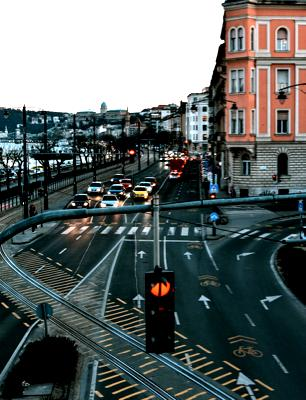International Road Signal Light: (144, 270, 177, 353)
